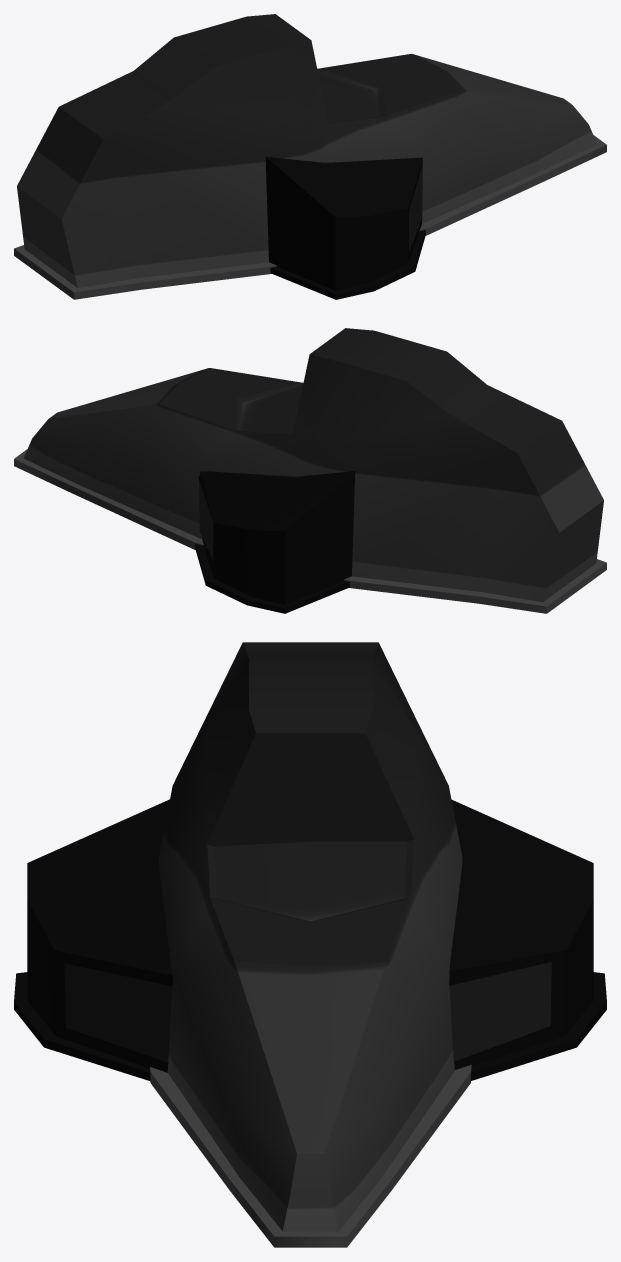
File: Dead_Body.FBX
3 renders of one model, top to bottom at view 1: azimuth 30°, elevation 25°; view 2: azimuth 150°, elevation 25°; view 3: azimuth 270°, elevation 25°, orthographic. The views are drawn at different scales.
Visible parts, largest first — view 1: Dead_Body; view 2: Dead_Body; view 3: Dead_Body.
Part boxes in pixels (box(x1,y1,x2,y2)): Dead_Body: box(14, 14, 606, 299); Dead_Body: box(14, 328, 606, 613); Dead_Body: box(14, 642, 606, 1247).
Size of the model in its own units: 220 by 72.69 by 133.
